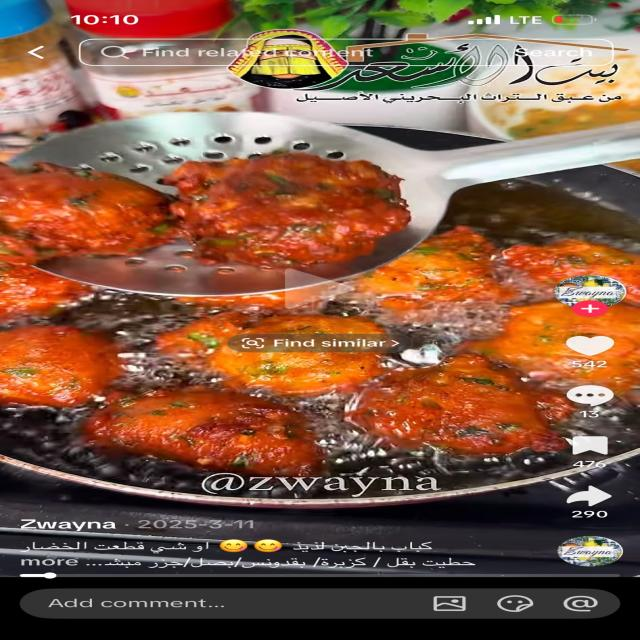Kebab: (0, 136, 640, 474)
